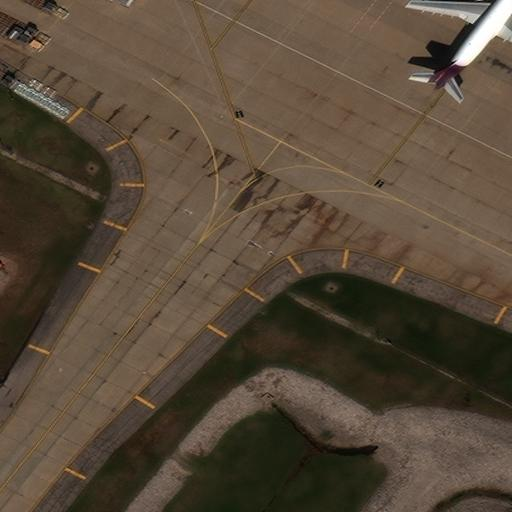Large Civil Transport: (408, 0, 512, 87)
